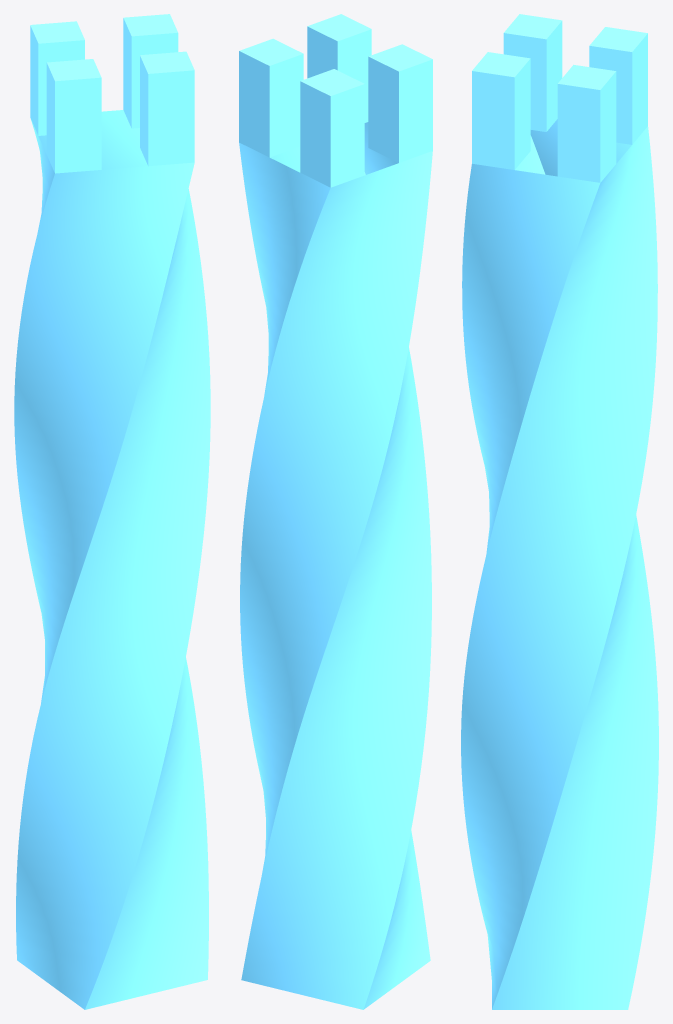
The model's file is tree.glb.
3 views of the same model, side by side, from view 1: azimuth 30°, elevation 25°; view 2: azimuth 150°, elevation 25°; view 3: azimuth 270°, elevation 25° (orthographic).
Parts seen in each view (by area): view 1: Objet_1, Objet_3, Objet_2, Objet_5, Objet_4; view 2: Objet_1, Objet_4, Objet_3, Objet_5, Objet_2; view 3: Objet_1, Objet_5, Objet_2, Objet_4, Objet_3.
Part boxes in pixels (left/top/right/bottom): Objet_1: left=14, top=110, right=210, bottom=1009; Objet_3: left=46, top=59, right=101, bottom=173; Objet_2: left=140, top=51, right=194, bottom=166; Objet_5: left=123, top=14, right=178, bottom=128; Objet_4: left=30, top=21, right=84, bottom=135; Objet_1: left=239, top=122, right=432, bottom=1009; Objet_4: left=300, top=69, right=364, bottom=187; Objet_3: left=368, top=44, right=432, bottom=162; Objet_5: left=239, top=38, right=303, bottom=157; Objet_2: left=307, top=14, right=371, bottom=122; Objet_1: left=461, top=119, right=658, bottom=1009; Objet_5: left=557, top=64, right=616, bottom=182; Objet_2: left=472, top=52, right=530, bottom=169; Objet_4: left=589, top=27, right=647, bottom=144; Objet_3: left=503, top=14, right=562, bottom=131.
Bounding box in the file's own units: 9.67 × 50 × 9.67.
